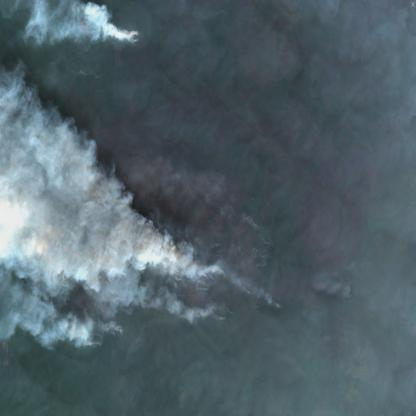fire: (8, 140, 304, 375), (118, 23, 148, 50)
